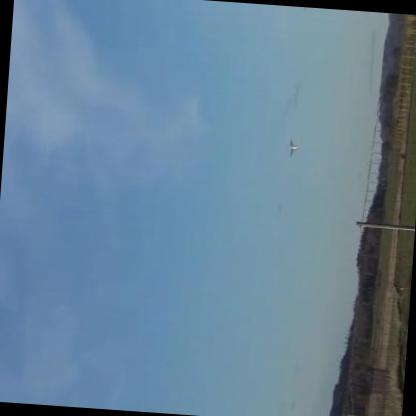plane: (290, 136, 299, 157)
